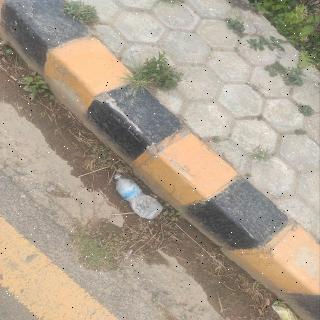Plastic-bottle: (111, 171, 167, 222)
